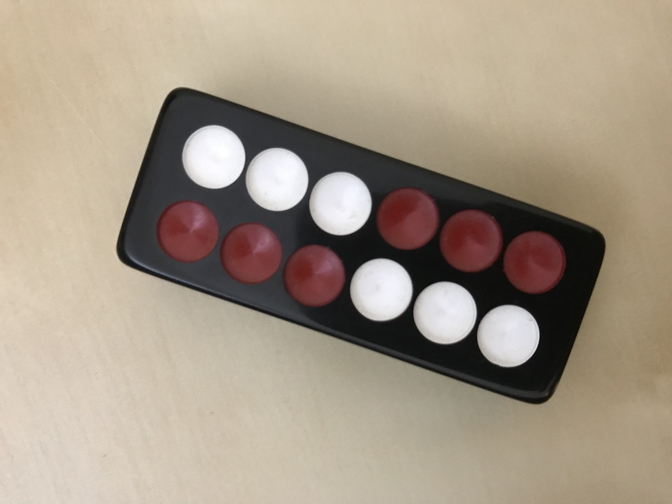heaven: (117, 86, 605, 405)
